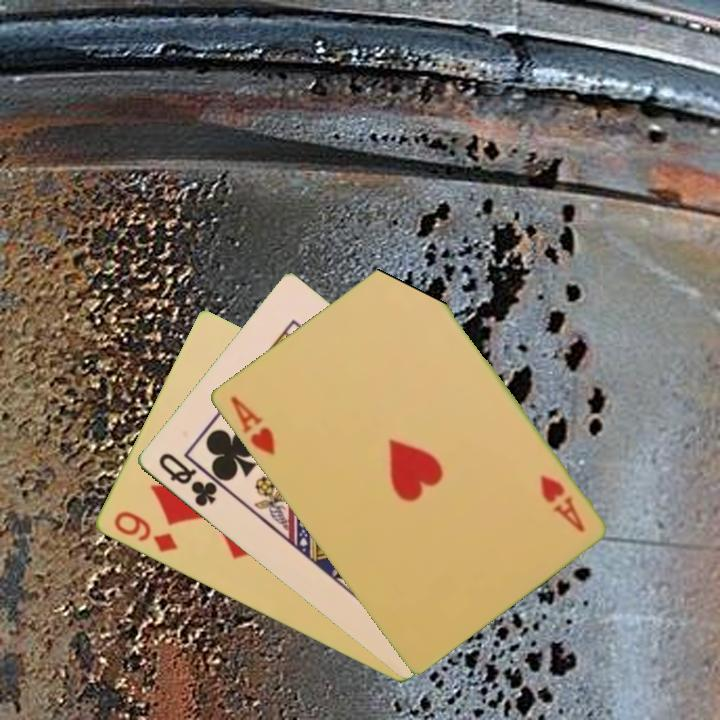9d: (110, 507, 181, 555)
Ah: (226, 392, 278, 458), (535, 471, 587, 536)
Qc: (154, 449, 220, 510)
